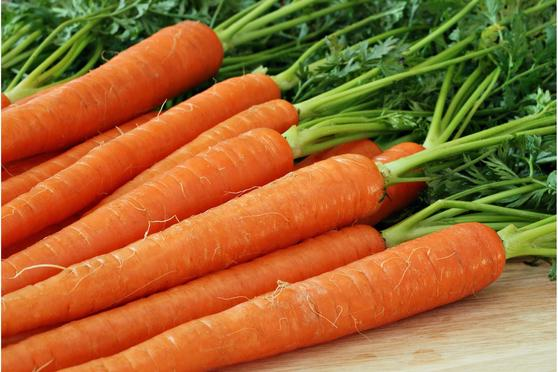carrot: (231, 217, 505, 350)
